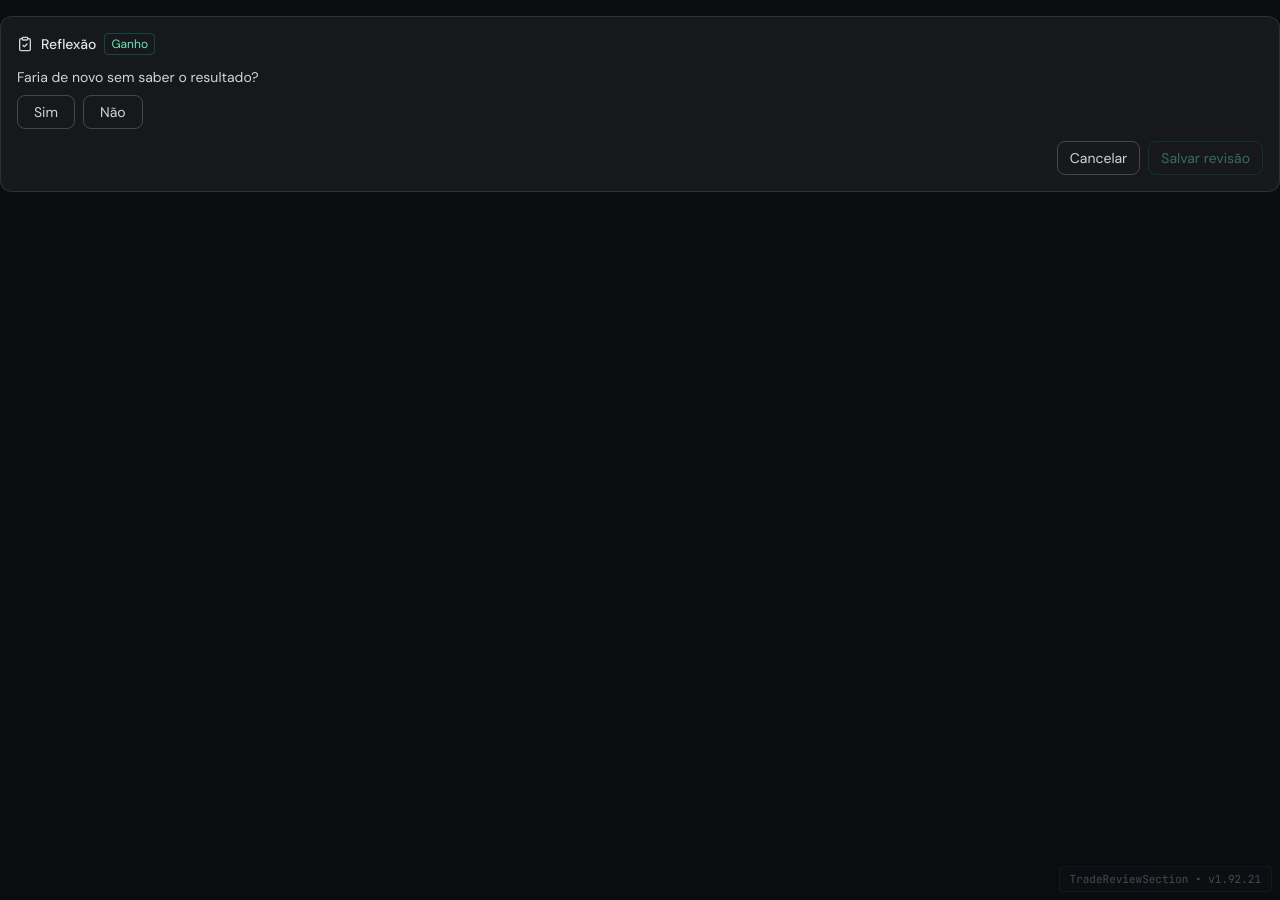
Test: <TradeReviewSection /> — erro visível no salvar (#345) › falha preserva as respostas digitadas e reabilita o botão
The image size is (1280, 900).
Click the button "Sim". click: point(46, 112)
box: x1=17 y1=95 x2=75 y2=129
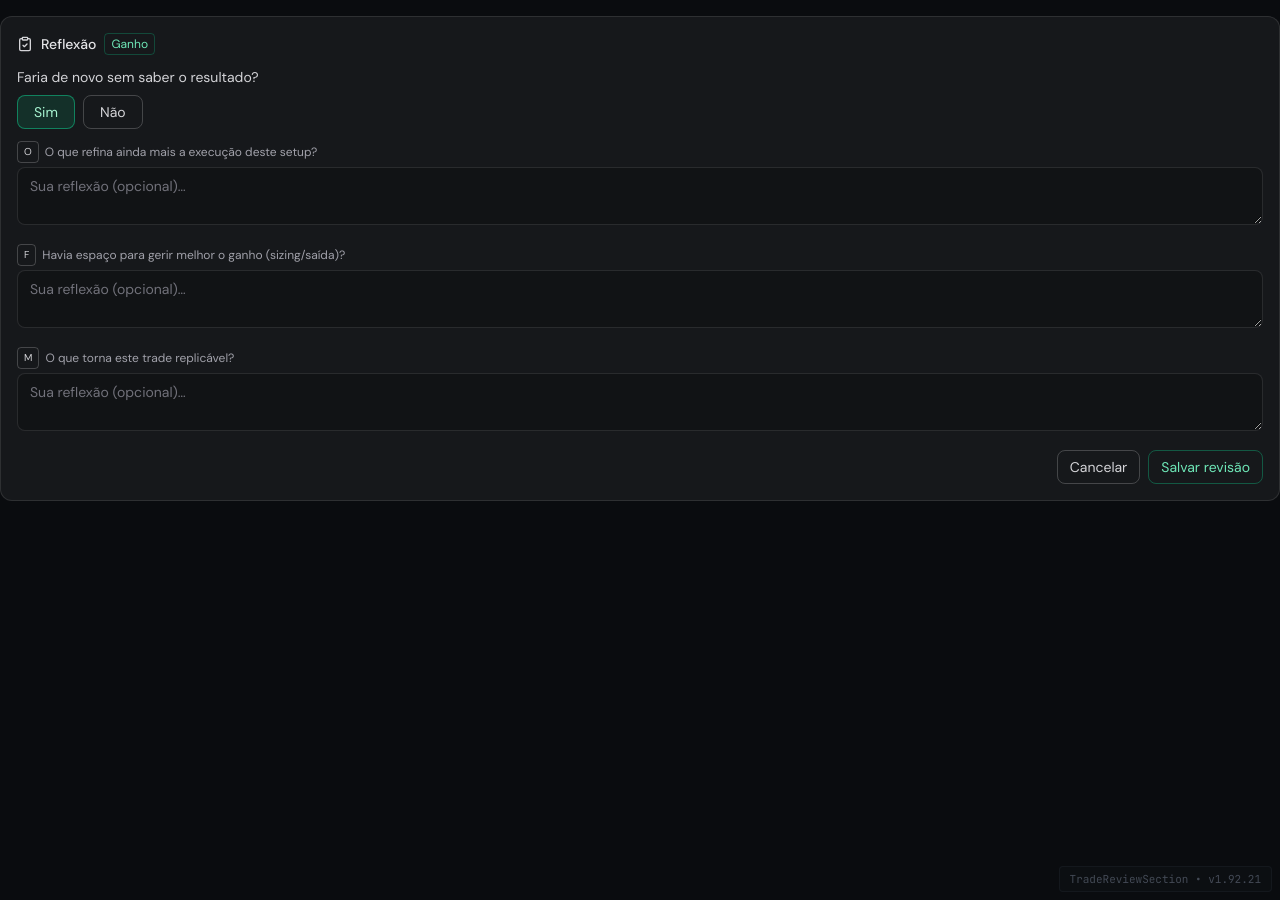
Type "minha reflexão" into the 1st text box with placeholder "Sua reflexão (opcional)…". click: point(640, 196)
box: x1=17 y1=167 x2=1263 y2=225
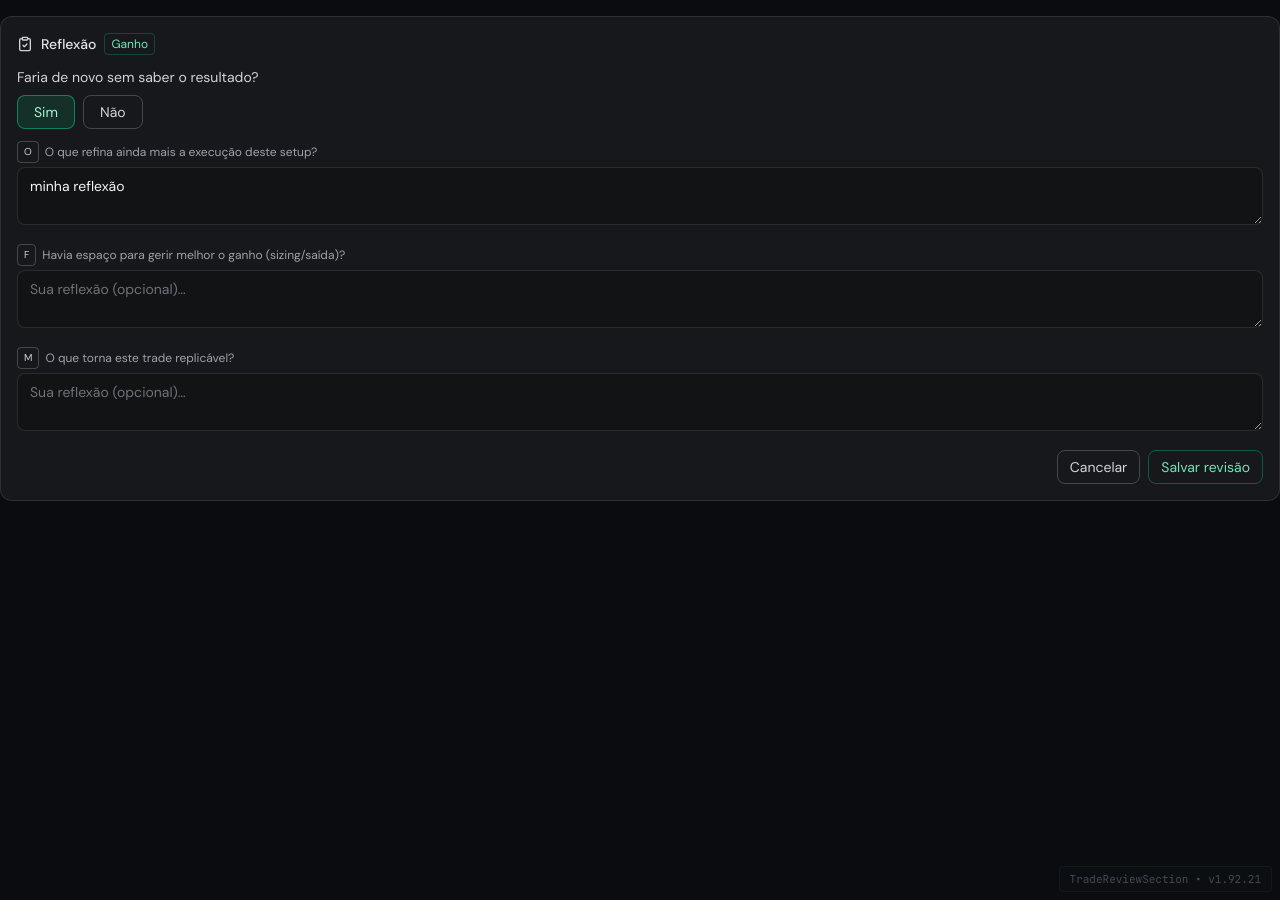
Click the button "Salvar revisão". click: point(1206, 467)
box: x1=1148 y1=450 x2=1263 y2=484
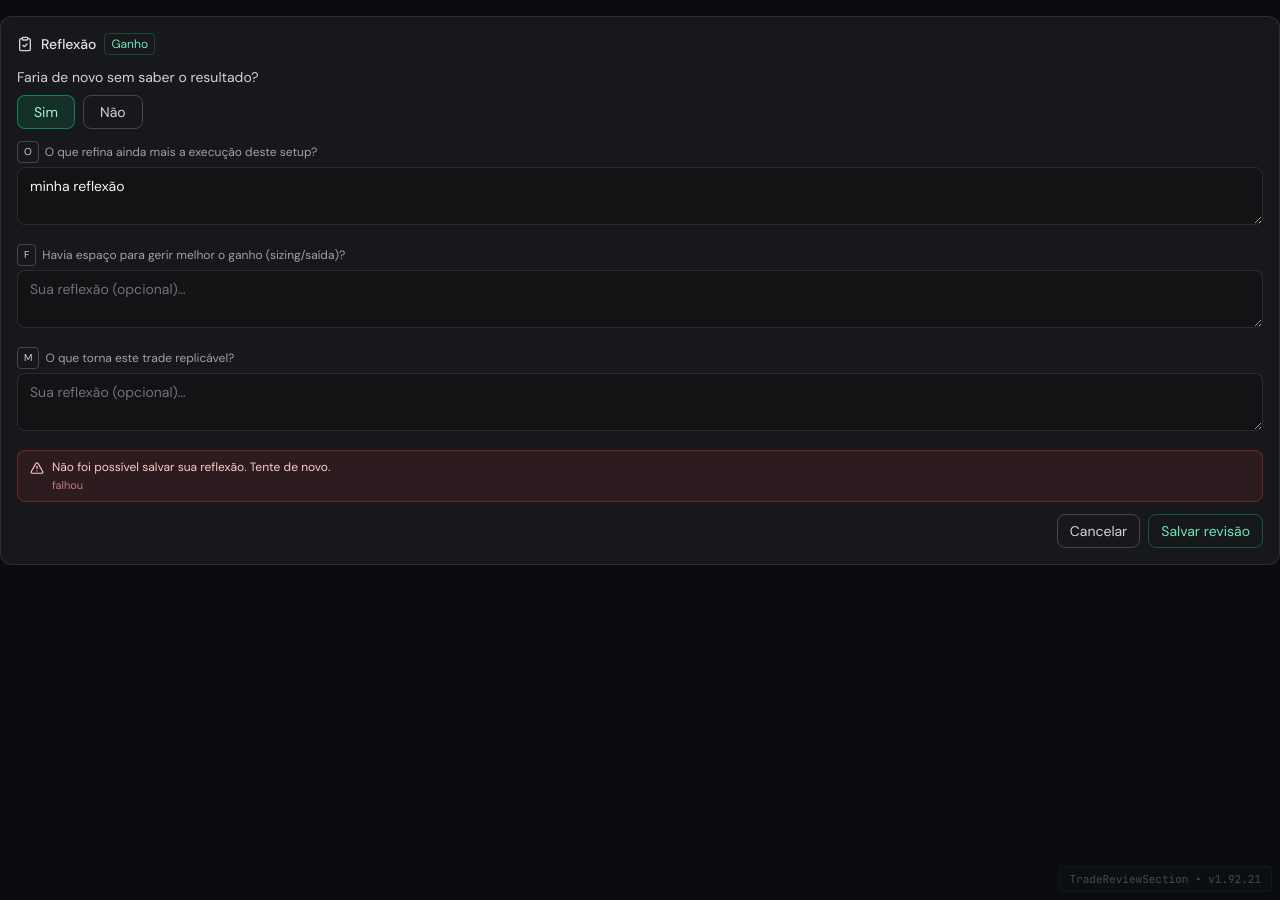
expect the button "Salvar revisão" is enabled: met, box x1=1148 y1=514 x2=1263 y2=548
expect the text "falhou" is shown: met, box x1=52 y1=478 x2=83 y2=492
